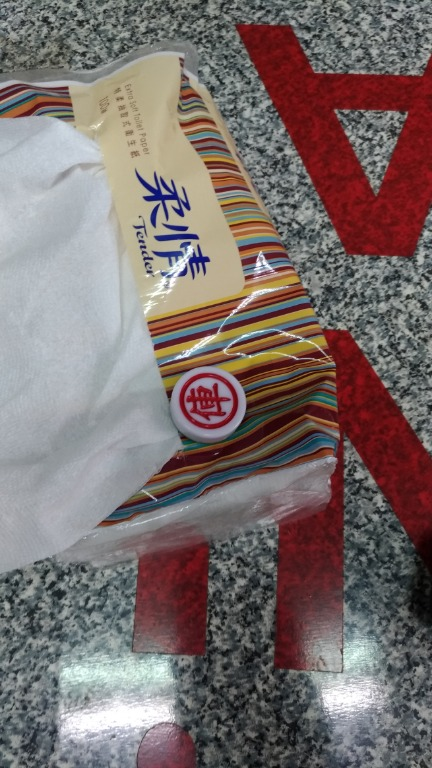r-rook: (153, 358, 261, 449)
